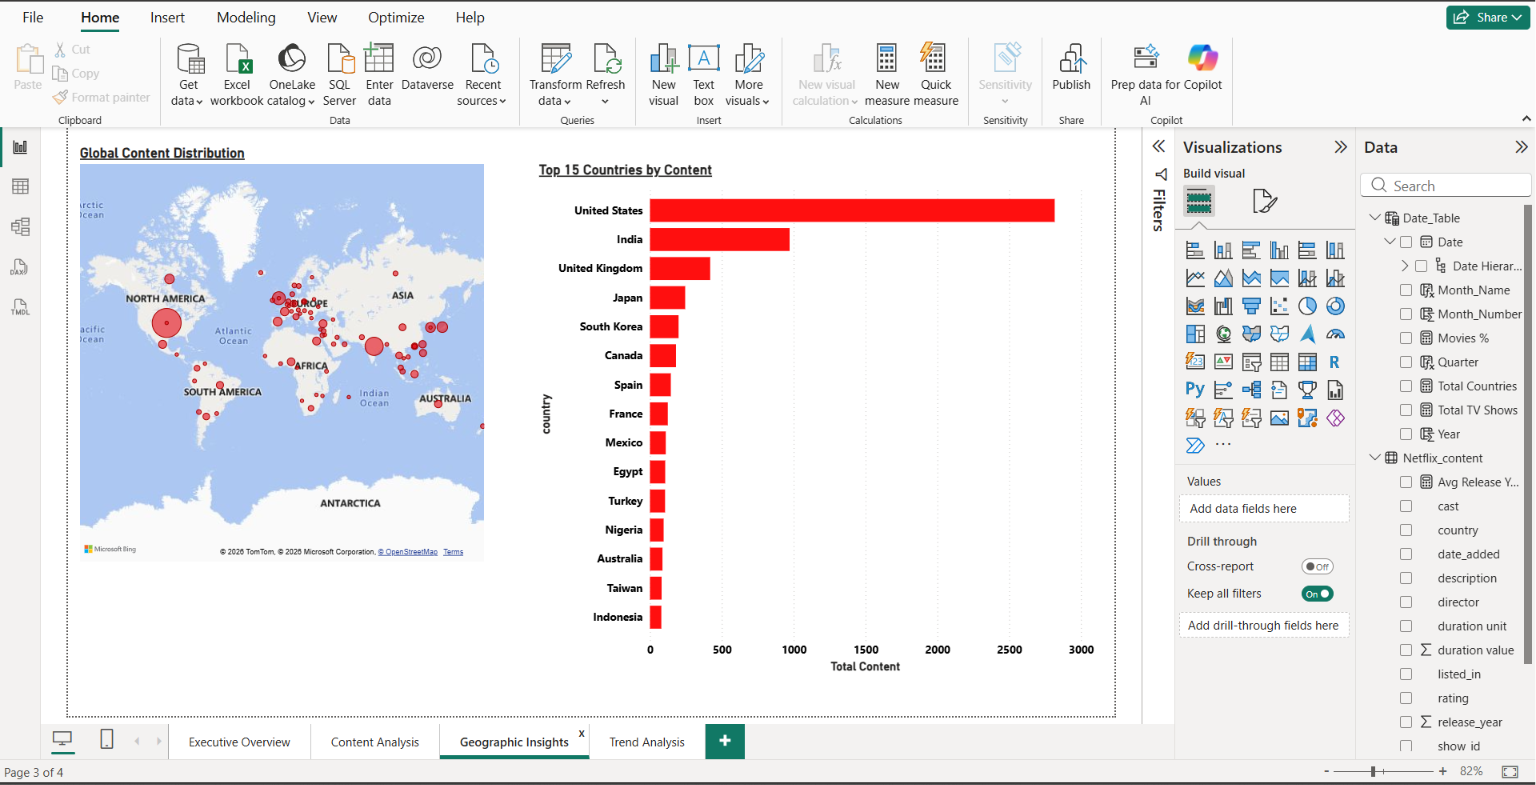

The dashboard page shown, as its layout file describes it:
{"tool":"powerbi","page":{"name":"Geographic Insights","canvas":[1280,720],"ordinal":2},"visuals":[{"type":"map","title":"Global Content Distribution ","fields":{"Size":["Netflix_content.Total Content"],"Category":["Netflix_content.country"]},"box":[9.8,20.8,503.8,514.8],"z":0},{"type":"clusteredBarChart","title":"Top 15 Countries by Content ","fields":{"Category":["Netflix_content.country"],"Y":["Netflix_content.Total Content"]},"box":[570.8,41.2,688.9,631.2],"z":1000}]}

Visuals, with their boxes on the page's 1280x720 design canvas (x1, y1, x2, y2). These are canvas units, not pixel positions in the 1536x785 screenshot, which may show the page scaled, cropped or inside an application window:
"Global Content Distribution " map: box(10, 21, 514, 536)
"Top 15 Countries by Content " clusteredBarChart: box(571, 41, 1260, 672)
